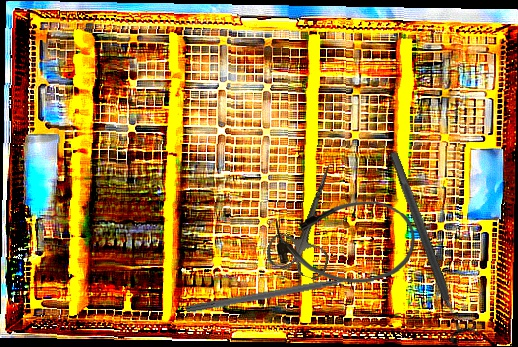Cannula: (274, 199, 417, 285)
Fixation Ring: (378, 146, 481, 347)
Iris Scissors: (262, 154, 360, 283)
Pusher: (185, 272, 371, 316)
